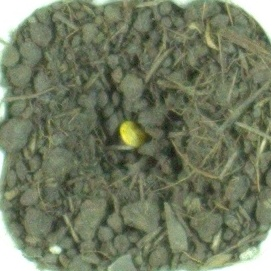chilli seed: (115, 117, 149, 149)
